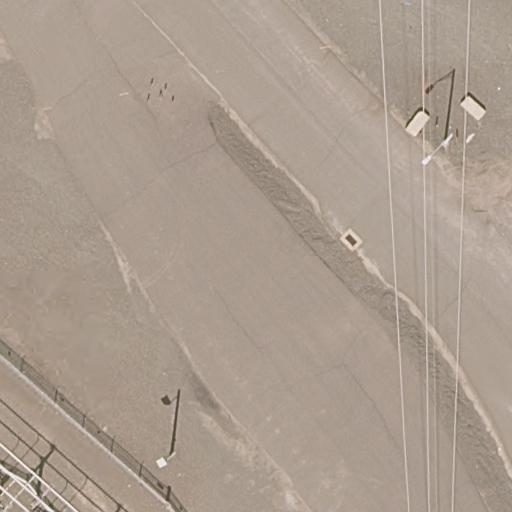DT: (421, 129, 455, 167)
